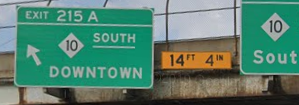1: (167, 52, 174, 67)
4: (174, 52, 185, 68), (204, 53, 215, 67)
overheadsign: (159, 50, 232, 71)
